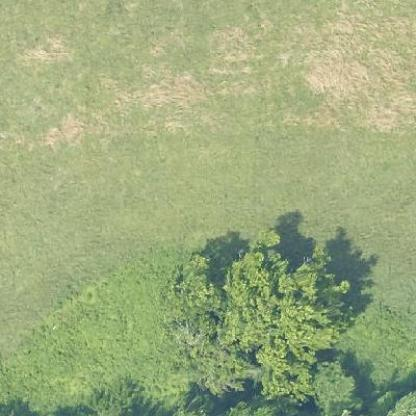tree-top: (216, 233, 348, 402), (160, 246, 230, 341), (309, 355, 360, 415)
